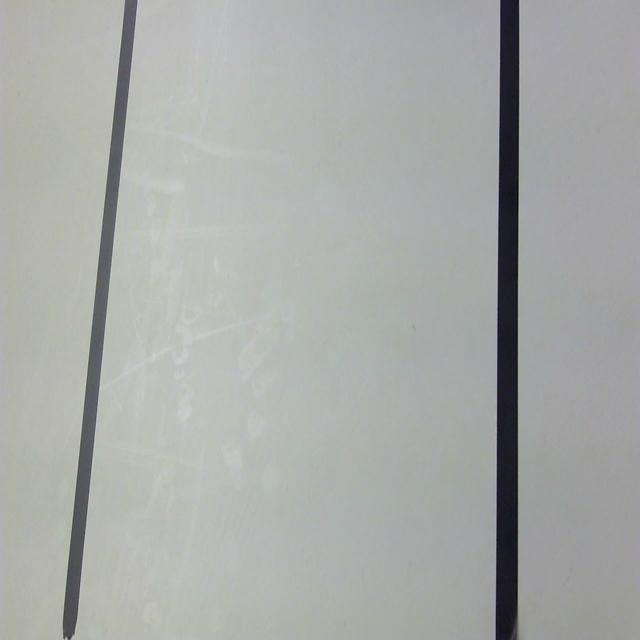tape: (42, 0, 154, 640), (482, 0, 552, 640)
